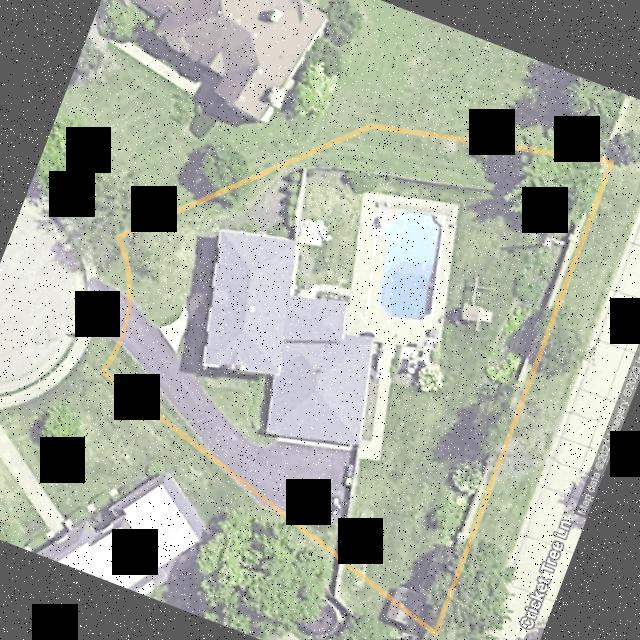Driveway: (120, 303, 355, 523)
Extra Driveway: (79, 279, 127, 341)
Extra Lawn: (436, 161, 640, 640), (89, 237, 126, 297), (79, 329, 116, 373)
Extra Sidewalk: (69, 327, 92, 358), (77, 247, 97, 281)
House: (202, 230, 371, 444)
Other: (344, 194, 457, 377), (298, 220, 332, 246), (460, 303, 492, 323), (392, 586, 419, 609)
Sidewalk: (358, 343, 395, 460), (158, 290, 211, 352), (295, 283, 349, 297)
